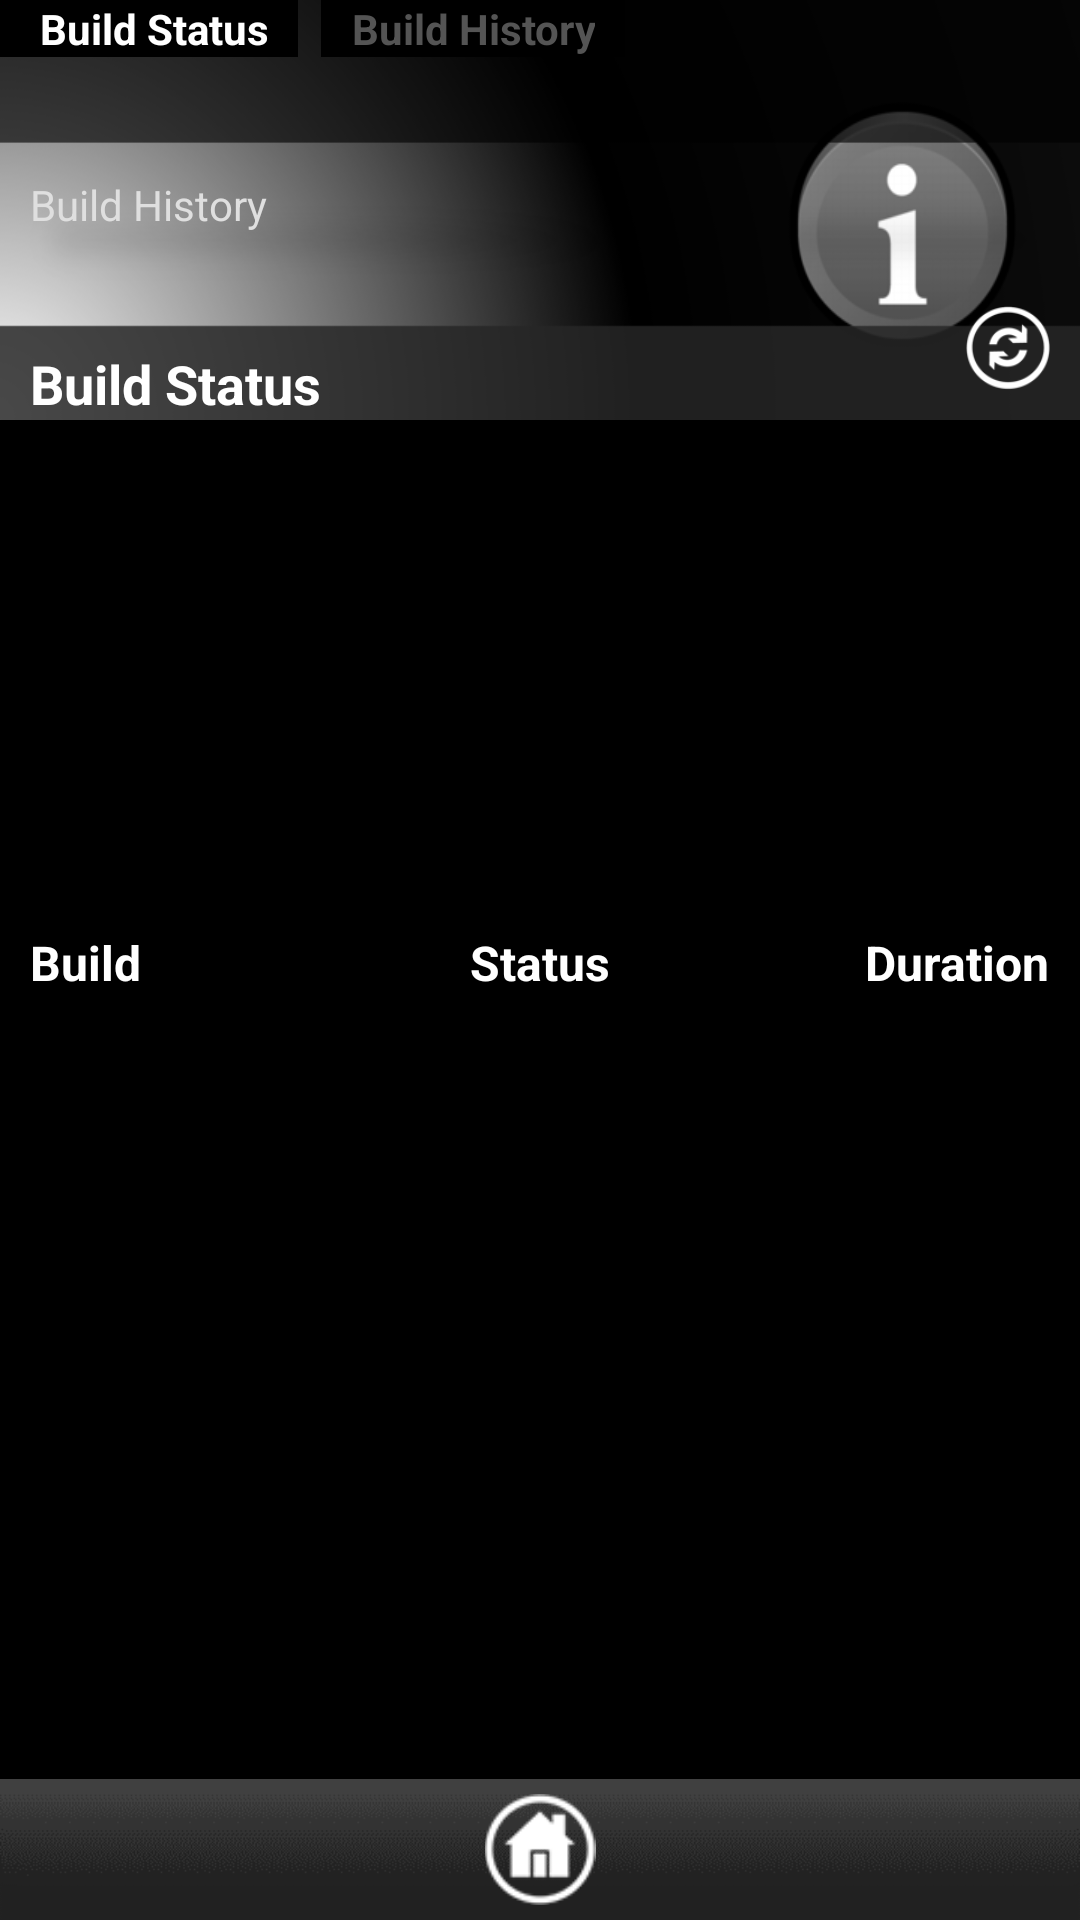

Icon click points for this 1080px×1920px phone screenshot, format point (x, y):
homeicon: point (540, 1849)
refresh: point (1008, 348)
